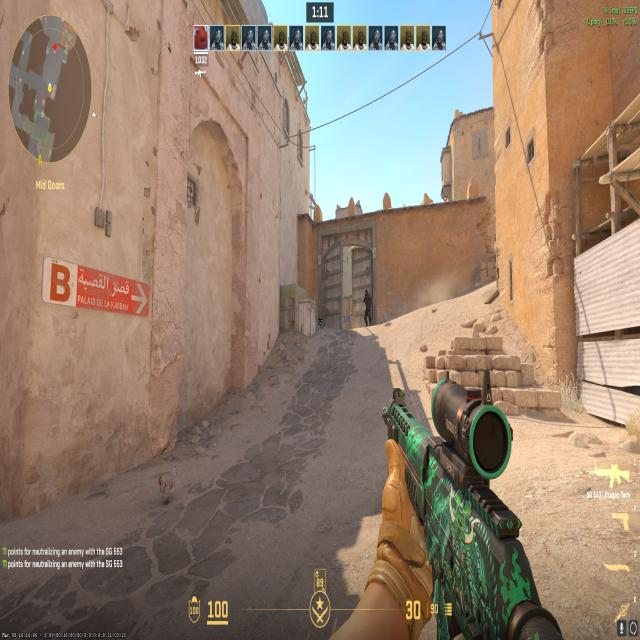ct: (359, 286, 375, 331)
